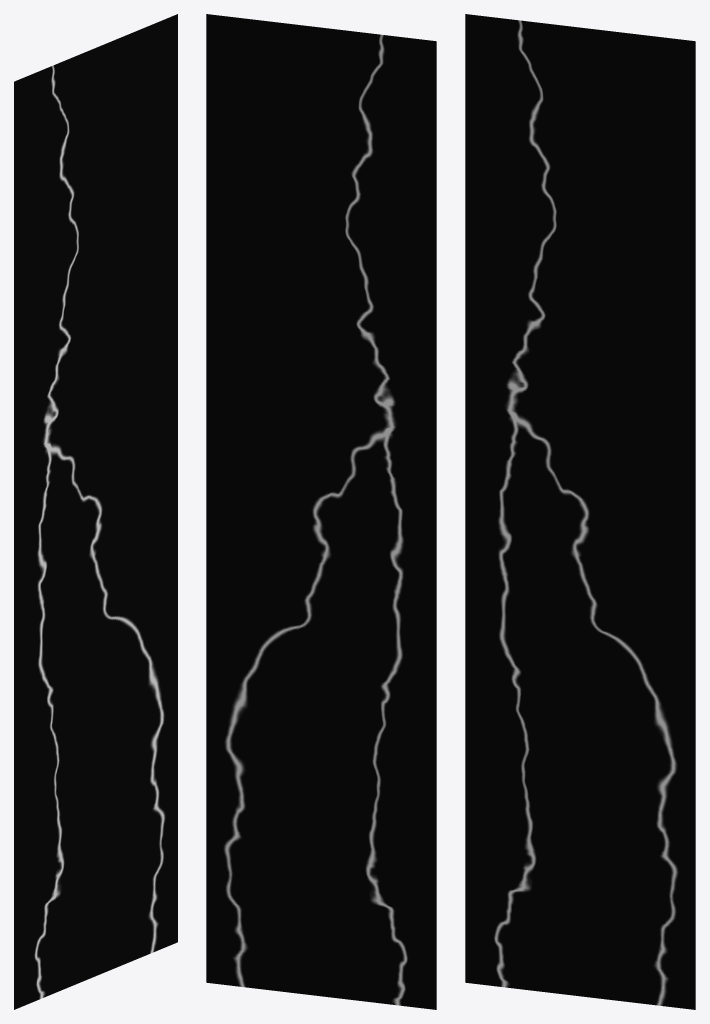
Rendered from LightningMesh_D.fbx.
3 renders of one model, left to right at view 1: azimuth 30°, elevation 25°; view 2: azimuth 150°, elevation 25°; view 3: azimuth 330°, elevation 25°, orthographic. The views are drawn at different scales.
Visible parts, largest first — view 1: LightningMesh_D; view 2: LightningMesh_D; view 3: LightningMesh_D.
Part boxes in pixels (box(x1,y1,x2,y2)): LightningMesh_D: box(14, 14, 177, 1009); LightningMesh_D: box(206, 14, 436, 1009); LightningMesh_D: box(465, 14, 695, 1009).
Size of the model in its own units: 0.2166 by 1 by 0.0554.
